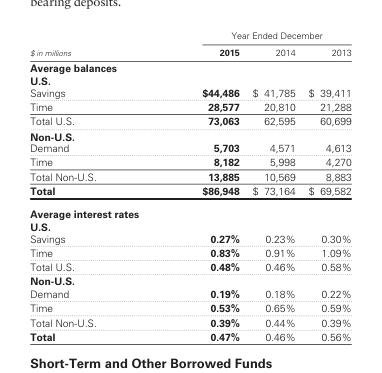table: (29, 29, 350, 342)
table column: (29, 29, 148, 342), (148, 29, 245, 342), (245, 29, 301, 342), (301, 29, 350, 342)
table column header: (29, 29, 350, 59)
table projected row header: (29, 201, 350, 219), (29, 59, 350, 73), (29, 273, 350, 287), (29, 73, 350, 86), (29, 128, 350, 141), (29, 219, 350, 232)
table row: (29, 183, 350, 201), (29, 201, 350, 219), (29, 43, 350, 59), (29, 113, 350, 128), (29, 168, 350, 183), (29, 314, 350, 329), (29, 29, 350, 43), (29, 59, 350, 73), (29, 99, 350, 113), (29, 154, 350, 168), (29, 245, 350, 259), (29, 259, 350, 273), (29, 273, 350, 287), (29, 300, 350, 314), (29, 73, 350, 86), (29, 86, 350, 99), (29, 128, 350, 141), (29, 141, 350, 154), (29, 219, 350, 232), (29, 232, 350, 245), (29, 287, 350, 300), (29, 329, 350, 342)
table spanning cell: (29, 29, 148, 59), (148, 29, 350, 43)
